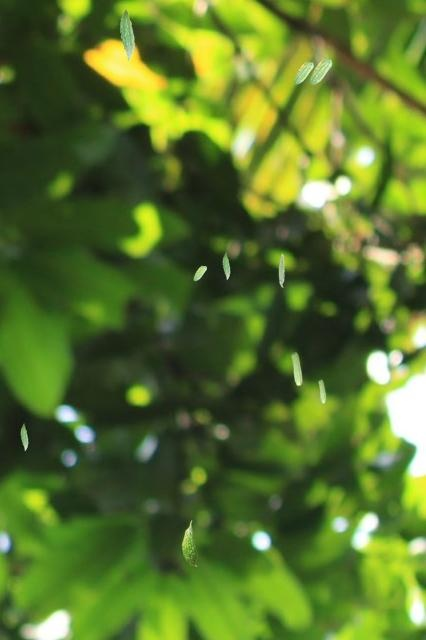ampalaya: (119, 8, 135, 61), (181, 520, 197, 566), (309, 59, 332, 85), (293, 61, 313, 84), (291, 352, 302, 385), (278, 253, 285, 287), (193, 265, 207, 281), (20, 423, 28, 451), (222, 252, 230, 280), (318, 379, 326, 403)
